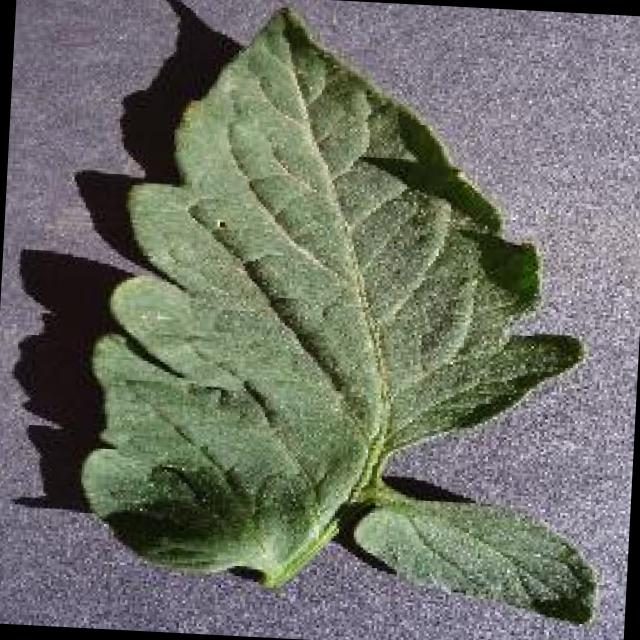Tomato_Healthy: (21, 0, 627, 633)
